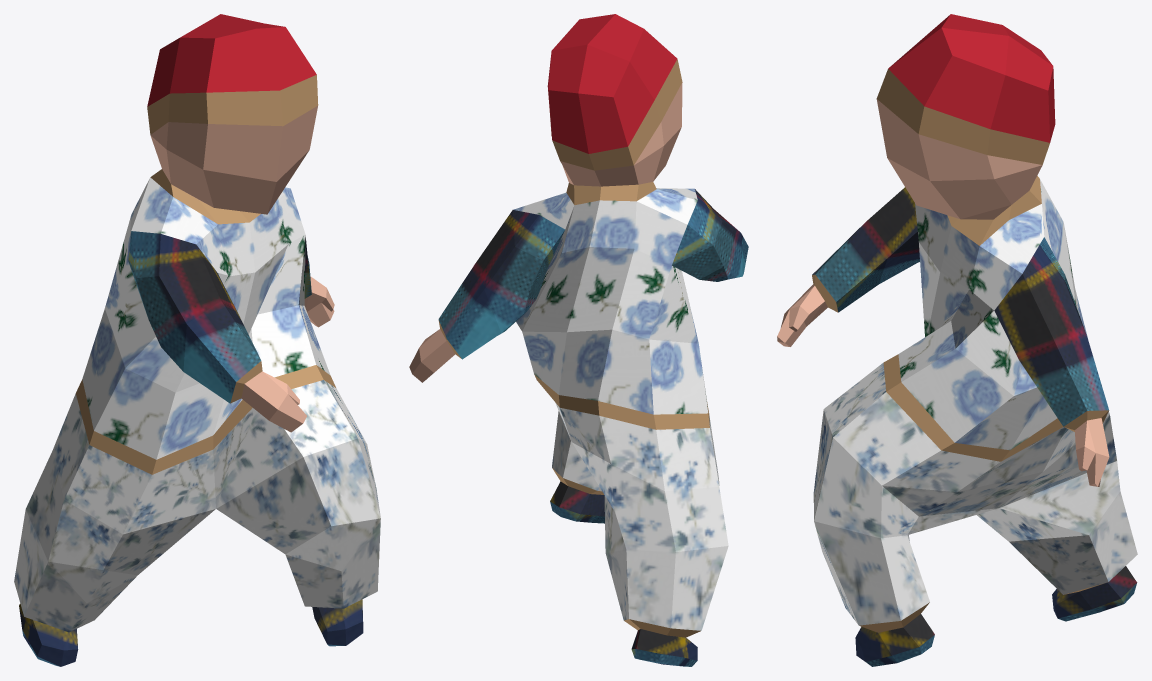
File: SpringBaby.007.glb
The picture shows the model from 3 angles, left to right: view 1: azimuth 30°, elevation 25°; view 2: azimuth 150°, elevation 25°; view 3: azimuth 270°, elevation 25°; orthographic projection. The views are drawn at different scales.
Visible parts, largest first — view 1: SpringBaby.007; view 2: SpringBaby.007; view 3: SpringBaby.007.
Part boxes in pixels (x1,y1,x2,y2): SpringBaby.007: (14, 14, 380, 666); SpringBaby.007: (409, 14, 748, 666); SpringBaby.007: (777, 14, 1137, 666).
Bounding box in the file's own units: 0.2993 × 0.5782 × 0.2882.
Materials: 1 (1 with a texture image).
